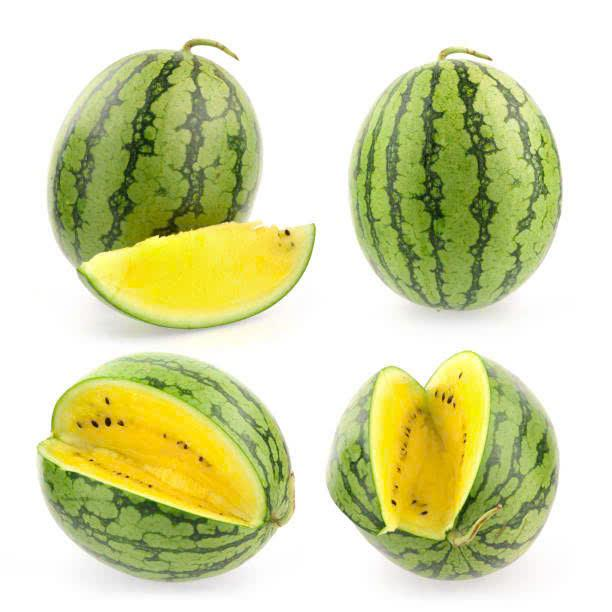watermelon: (84, 20, 325, 350), (49, 347, 320, 590), (350, 40, 571, 320), (343, 356, 585, 561), (86, 193, 316, 354)
